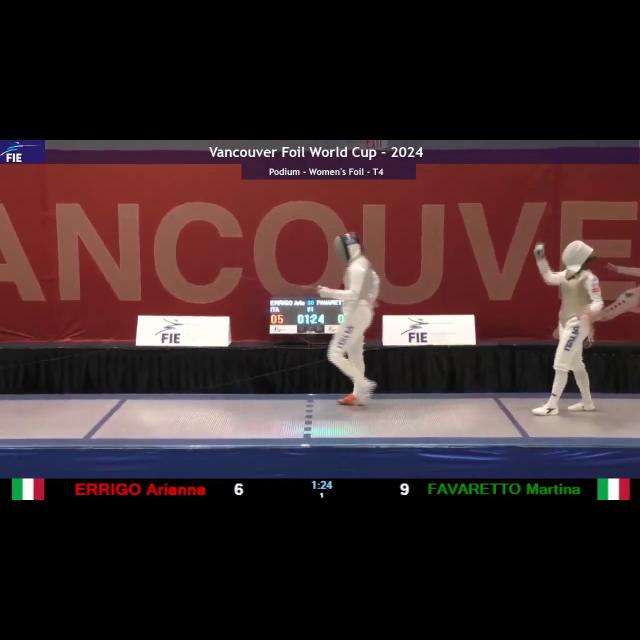blade: (233, 273, 329, 295)
